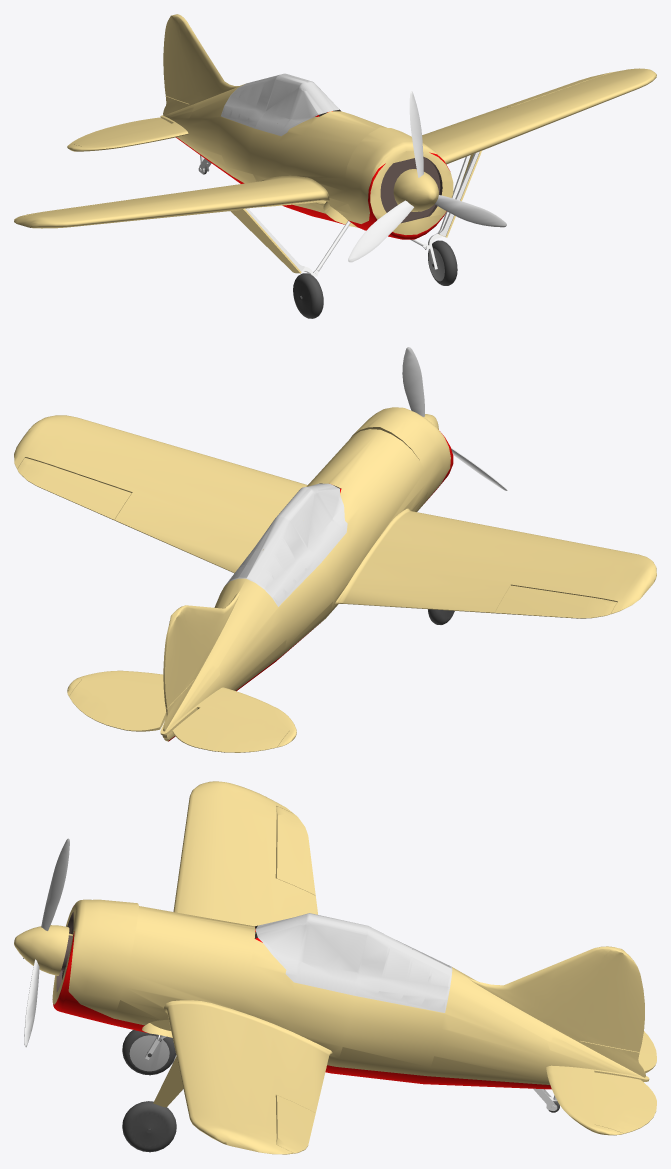
3 renders of one model, top to bottom at view 1: azimuth 30°, elevation 25°; view 2: azimuth 150°, elevation 25°; view 3: azimuth 270°, elevation 25°, orthographic. The views are drawn at different scales.
Parts seen in each view (by area): view 1: Layer0_001, Group_007, Group_001, Group_010, Group_005, Group_003, Group_009; view 2: Layer0_001, Group_001, Group_007, Group_010, Group_009; view 3: Layer0_001, Group_001, Group_007, Group_010, Group_009, Group_003, Group_005.
Part boxes in pixels (bbox=[...]): Layer0_001: bbox=[67, 14, 506, 262]; Group_007: bbox=[14, 175, 329, 228]; Group_001: bbox=[422, 68, 656, 164]; Group_010: bbox=[223, 75, 338, 127]; Group_005: bbox=[230, 208, 350, 318]; Group_003: bbox=[410, 150, 481, 285]; Group_009: bbox=[221, 73, 339, 136]; Layer0_001: bbox=[67, 347, 507, 752]; Group_001: bbox=[14, 415, 307, 573]; Group_007: bbox=[334, 508, 656, 618]; Group_010: bbox=[226, 484, 342, 601]; Group_009: bbox=[225, 483, 347, 606]; Layer0_001: bbox=[14, 838, 656, 1135]; Group_001: bbox=[164, 1000, 332, 1154]; Group_007: bbox=[173, 781, 317, 926]; Group_010: bbox=[258, 914, 450, 1009]; Group_009: bbox=[255, 913, 452, 1012]; Group_003: bbox=[122, 1054, 183, 1152]; Group_005: bbox=[122, 1030, 175, 1075].
Bounding box in the file's own units: 10793 × 3880 × 8223.
